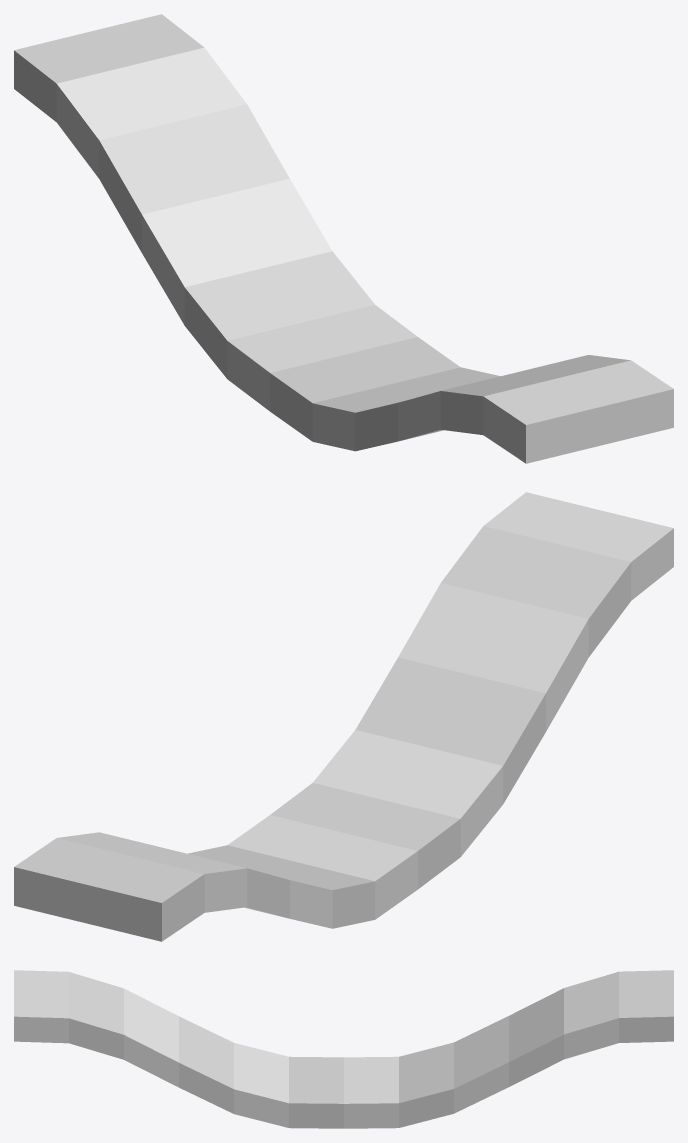
The model's file is road_05.fbx.
3 views of the same model, one above another, from view 1: azimuth 30°, elevation 25°; view 2: azimuth 150°, elevation 25°; view 3: azimuth 270°, elevation 25° (orthographic). The views are drawn at different scales.
Parts seen in each view (by area): view 1: road_05; view 2: road_05; view 3: road_05.
Part boxes in pixels (x1=…): road_05: x1=14, y1=14, x2=673, y2=463; road_05: x1=14, y1=492, x2=673, y2=941; road_05: x1=14, y1=970, x2=673, y2=1128.
Bounding box in the file's own units: 10.21 × 11.48 × 61.25.
